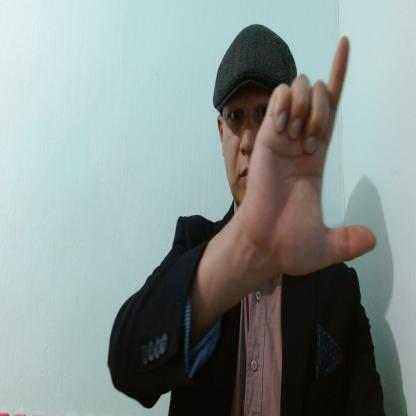L: (249, 35, 375, 276)
